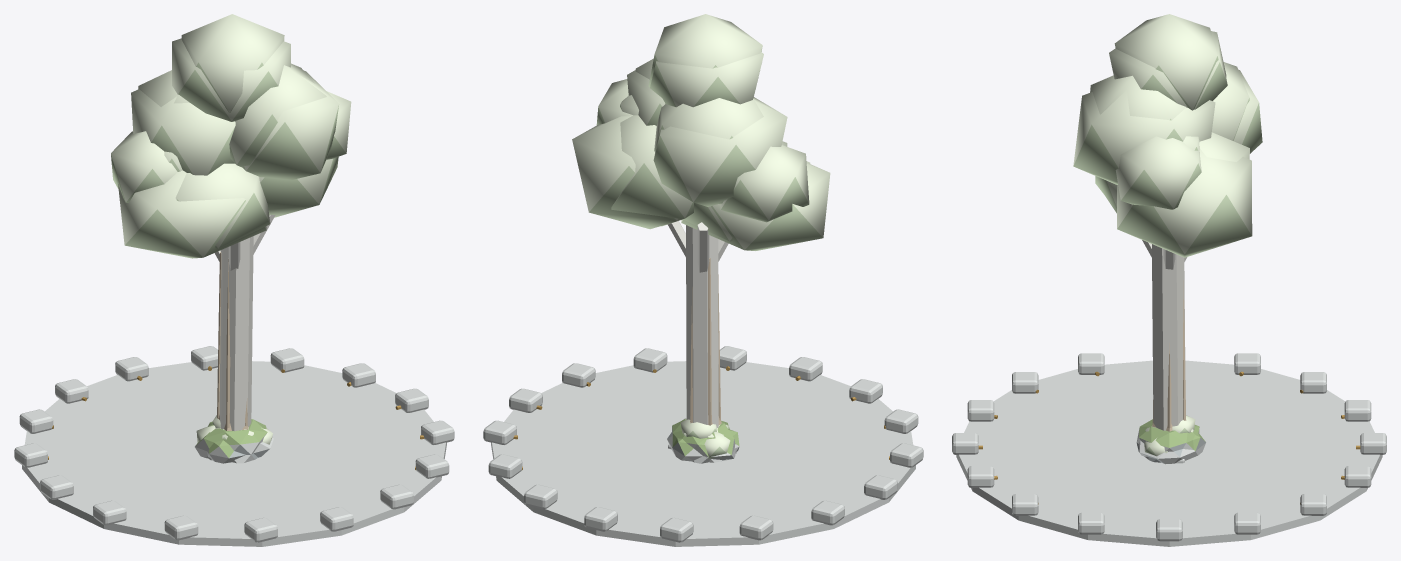
File: planet-nature-v01.glb
The picture shows the model from 3 angles, left to right: view 1: azimuth 30°, elevation 25°; view 2: azimuth 150°, elevation 25°; view 3: azimuth 270°, elevation 25°; orthographic projection.
Visible parts, largest first — view 1: survey_base_Weathered stone, canopyA_Leaf sun planes, canopyB_Leaf sun planes, trunk_Nature neutral, Fractured moss boulder, trunk_Bark ridges, Fractured moss boulder.001; view 2: survey_base_Weathered stone, canopyA_Leaf sun planes, canopyB_Leaf sun planes, trunk_Nature neutral, trunk_Bark ridges, bush_Leaf sun planes, Fractured moss boulder, Fractured moss boulder.001; view 3: survey_base_Weathered stone, canopyA_Leaf sun planes, canopyB_Leaf sun planes, trunk_Nature neutral, Fractured moss boulder, Fractured moss boulder.001, trunk_Bark ridges, bush_Leaf sun planes.
Boxes of the visible parts, left/top/right/bottom form: survey_base_Weathered stone: left=14, top=346, right=454, bottom=546; canopyA_Leaf sun planes: left=111, top=38, right=351, bottom=258; canopyB_Leaf sun planes: left=138, top=14, right=326, bottom=248; trunk_Nature neutral: left=214, top=214, right=275, bottom=431; Fractured moss boulder: left=195, top=419, right=267, bottom=463; trunk_Bark ridges: left=217, top=252, right=248, bottom=430; Fractured moss boulder.001: left=207, top=424, right=273, bottom=463; survey_base_Weathered stone: left=483, top=346, right=923, bottom=546; canopyA_Leaf sun planes: left=572, top=52, right=830, bottom=250; canopyB_Leaf sun planes: left=611, top=14, right=810, bottom=241; trunk_Nature neutral: left=667, top=221, right=728, bottom=427; trunk_Bark ridges: left=690, top=258, right=721, bottom=425; bush_Leaf sun planes: left=680, top=418, right=730, bottom=458; Fractured moss boulder: left=672, top=419, right=735, bottom=463; Fractured moss boulder.001: left=667, top=429, right=739, bottom=462; survey_base_Weathered stone: left=952, top=353, right=1386, bottom=546; canopyA_Leaf sun planes: left=1073, top=31, right=1262, bottom=257; canopyB_Leaf sun planes: left=1090, top=14, right=1249, bottom=210; trunk_Nature neutral: left=1142, top=240, right=1187, bottom=430; Fractured moss boulder: left=1136, top=419, right=1199, bottom=462; Fractured moss boulder.001: left=1138, top=433, right=1205, bottom=464; trunk_Bark ridges: left=1152, top=280, right=1186, bottom=431; bush_Leaf sun planes: left=1144, top=415, right=1195, bottom=456.
Size of the model in its own units: 5.2 by 5.89 by 5.2.
